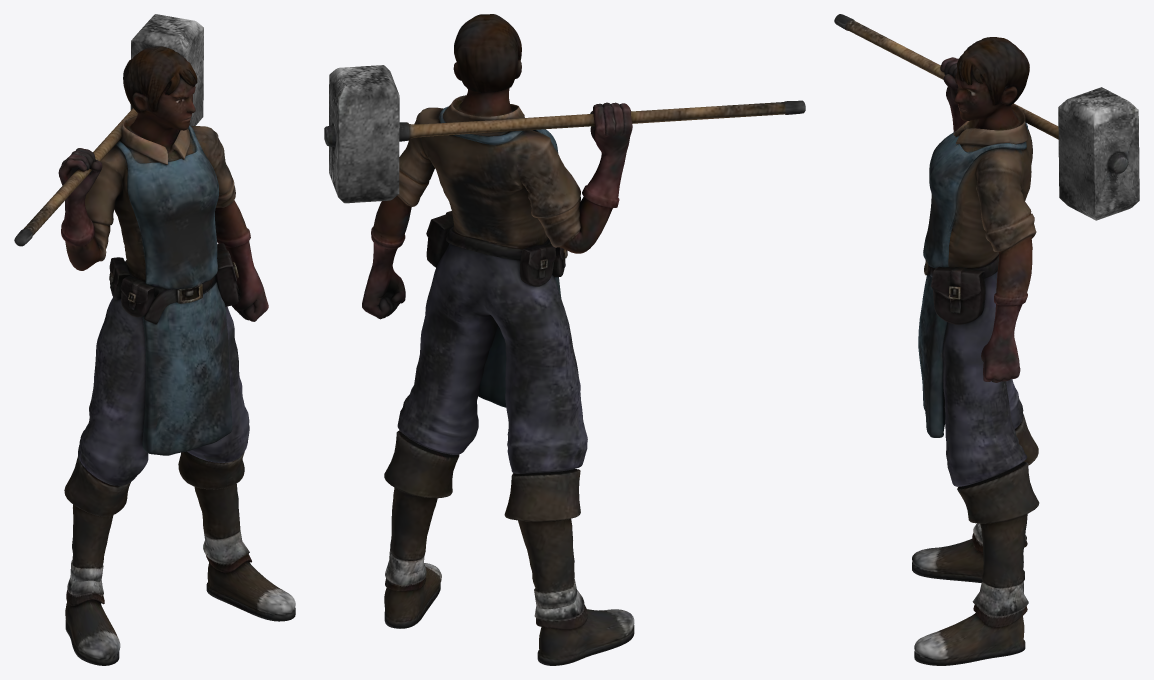
Rendered from MZ4250 - Human Female Blacksmith_alt2.glb.
The picture shows the model from 3 angles, left to right: view 1: azimuth 30°, elevation 25°; view 2: azimuth 150°, elevation 25°; view 3: azimuth 270°, elevation 25°; orthographic projection. The views are drawn at different scales.
Parts seen in each view (by area): view 1: Human Female Blacksmith.001; view 2: Human Female Blacksmith.001; view 3: Human Female Blacksmith.001.
Boxes of the visible parts, x1,y1,x2,y2 form: Human Female Blacksmith.001: (14,14,295,665); Human Female Blacksmith.001: (324,14,805,665); Human Female Blacksmith.001: (834,14,1139,665).
Size of the model in its own units: 20.97 by 34.78 by 16.81.
Materials: 1 (1 with a texture image).
